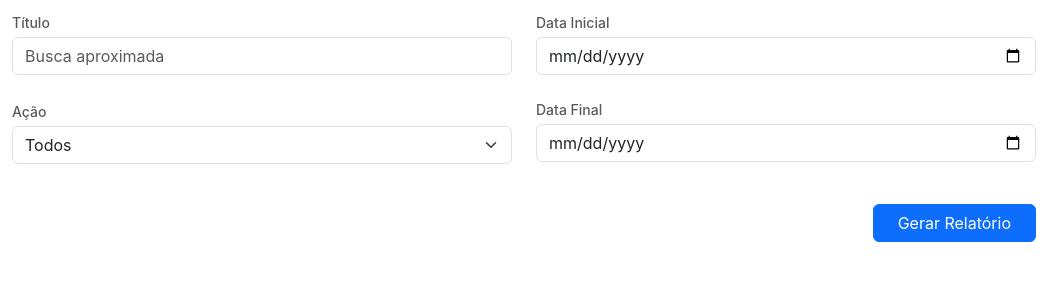
Test: AuditReportForm › should validate date range
Type "2023-12-31" into the date field labelled "Data Inicial" at (786, 56), box [536,37,1036,75]
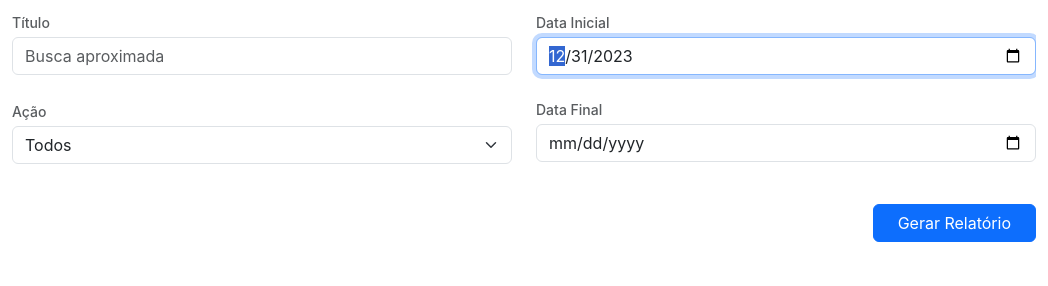
Type "2023-01-01" into the date field labelled "Data Final" at (786, 143), box [536,124,1036,162]
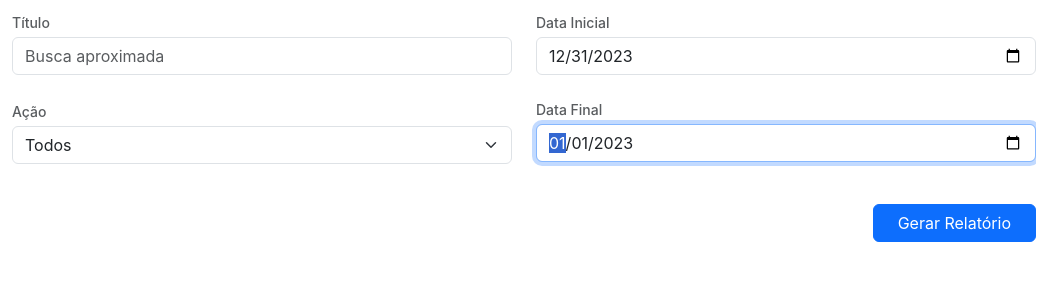
Click the button "Gerar Relatório" at (954, 223), box [873,204,1036,242]
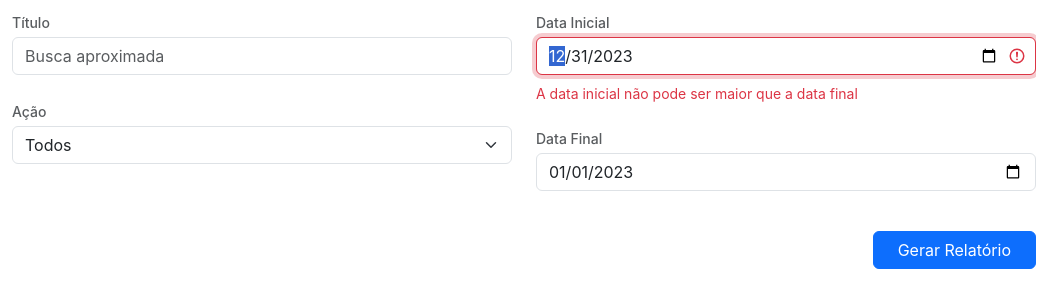
Check: the text "A data inicial não pode ser maior que a data final" is shown, box [536,85,858,102]
